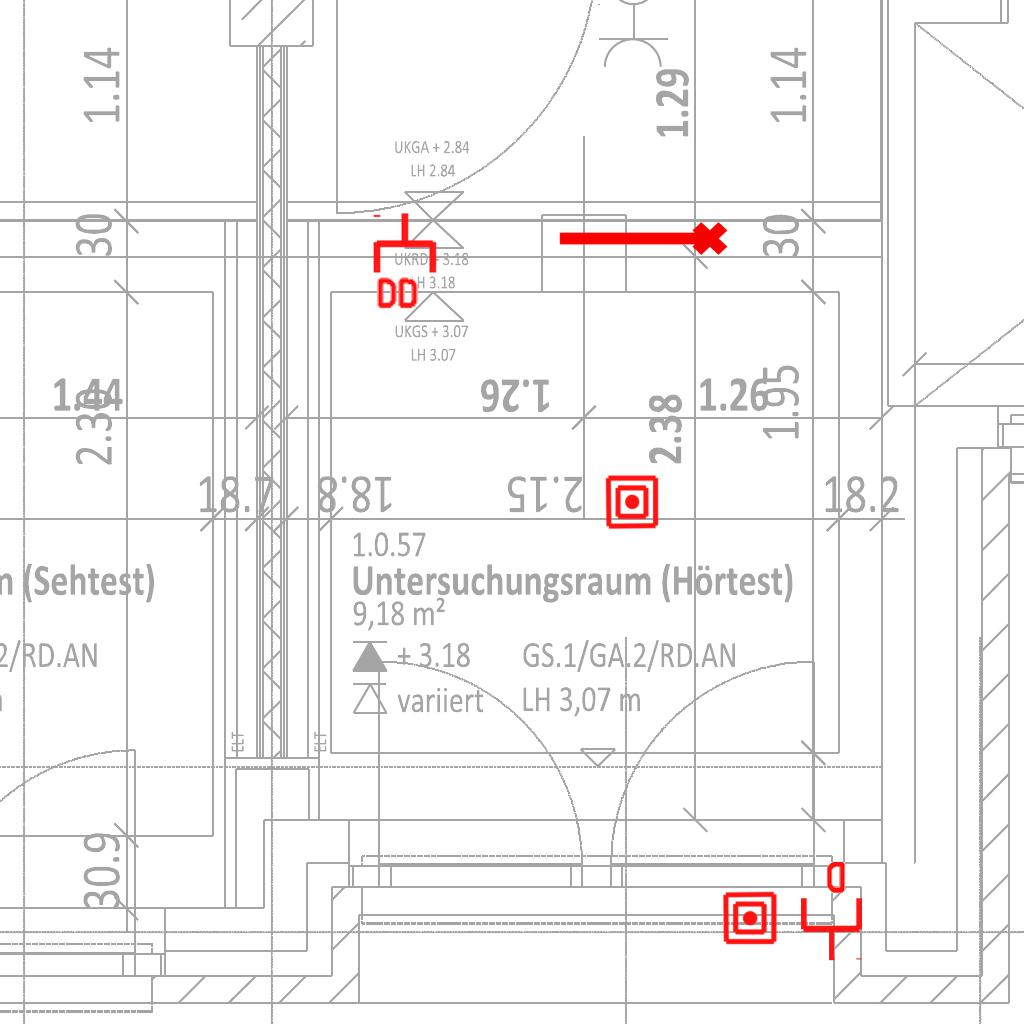ASR_Ansaugoeffnung: (554, 218, 730, 264)
Datenanschluss_einfach: (797, 862, 866, 962)
Datenanschluss_zweifach: (372, 210, 441, 313)
NAM-Nichtautomatischer_Melder: (722, 890, 778, 946), (604, 474, 660, 530)
